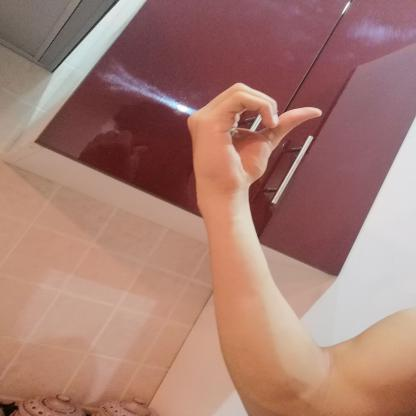WAW: (170, 72, 335, 206)
